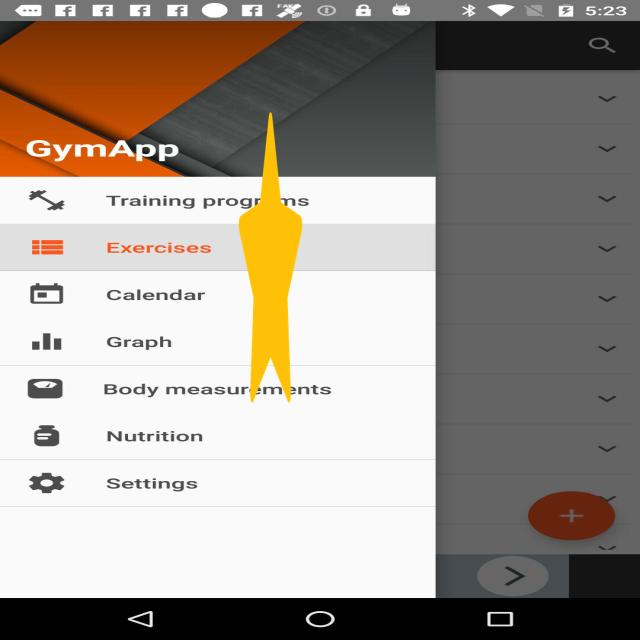forced continuity: (239, 112, 302, 403)
